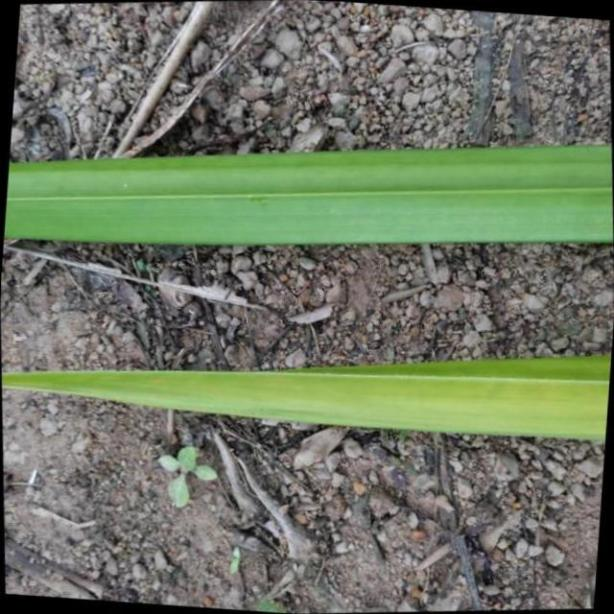nitrogen: (0, 138, 614, 243), (0, 359, 614, 448)
